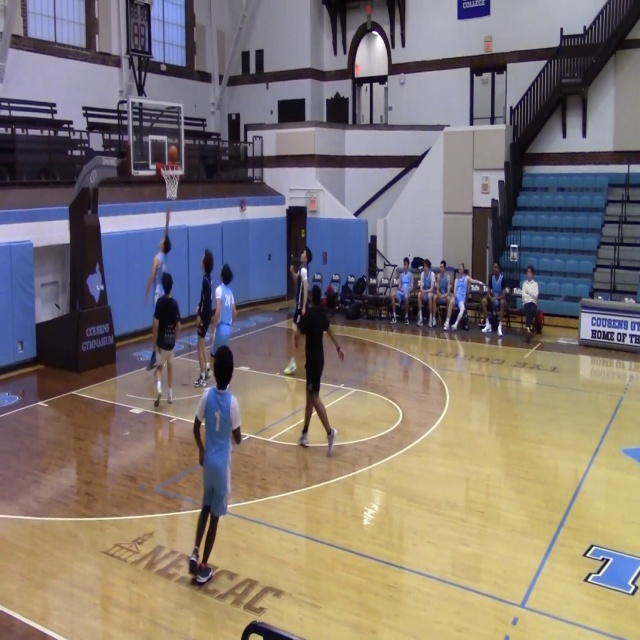Basketball: (167, 145, 179, 163)
